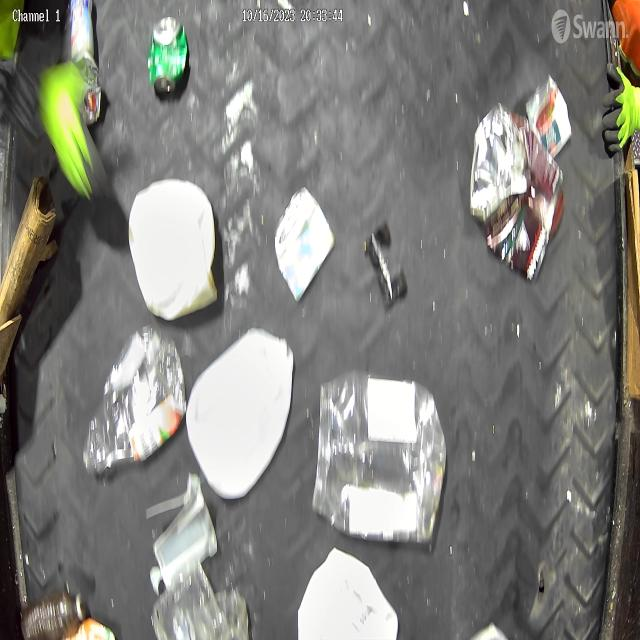can: (272, 182, 335, 306), (146, 6, 197, 104)
milk_jug: (185, 316, 299, 506), (126, 174, 225, 323), (293, 532, 398, 640)
plastic_bottle: (80, 322, 187, 477), (21, 582, 88, 640)
